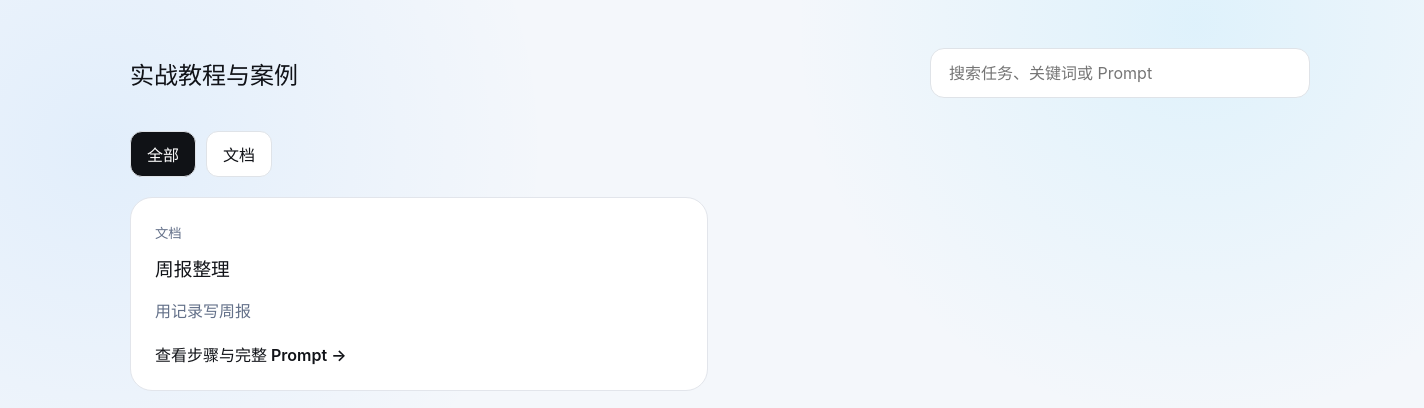
Test: 后台内容前台展示 › 分类搜索能找到案例，详情链接稳定
Type "不存在" into the search field named "搜索新增教程" at (1120, 73), box [930, 48, 1310, 98]
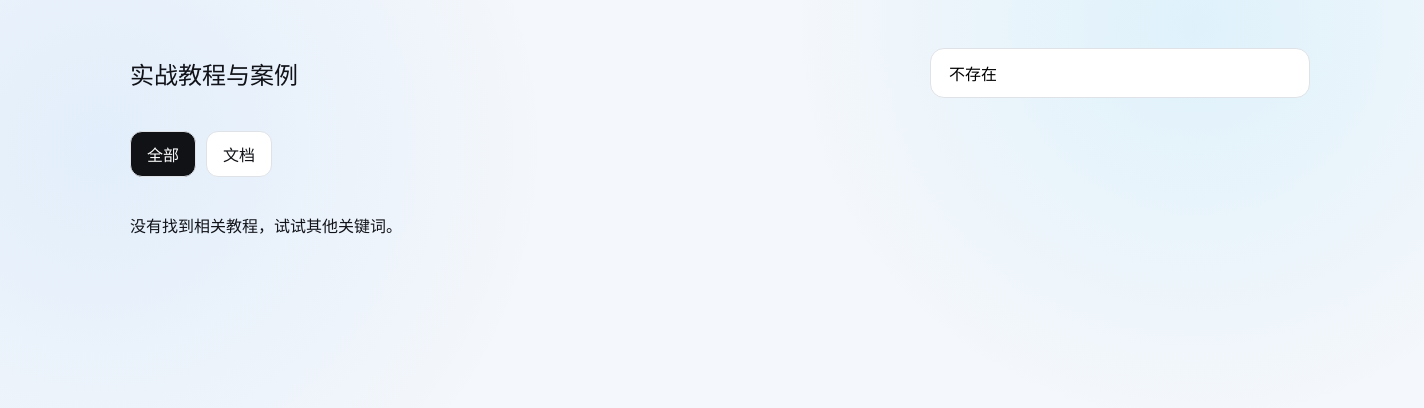
Expected: the link "周报整理" is gone
